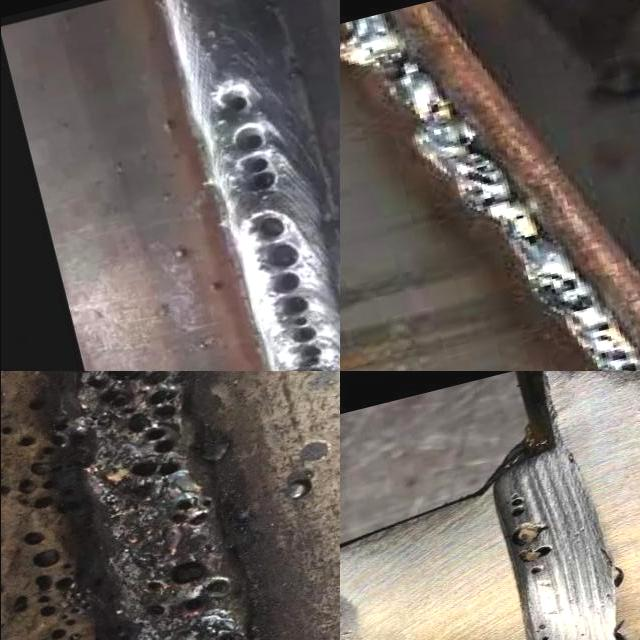defect: (253, 212, 334, 371), (79, 371, 190, 484), (0, 392, 86, 518), (0, 526, 90, 640), (133, 550, 239, 625), (227, 119, 281, 195), (451, 152, 504, 212), (507, 519, 555, 579), (533, 269, 595, 315), (168, 483, 224, 531), (591, 319, 640, 371), (385, 45, 415, 82), (503, 492, 531, 518), (446, 125, 475, 149), (218, 91, 245, 114), (512, 229, 541, 247), (423, 100, 443, 117), (534, 633, 551, 640), (512, 213, 525, 221), (537, 623, 545, 631)
